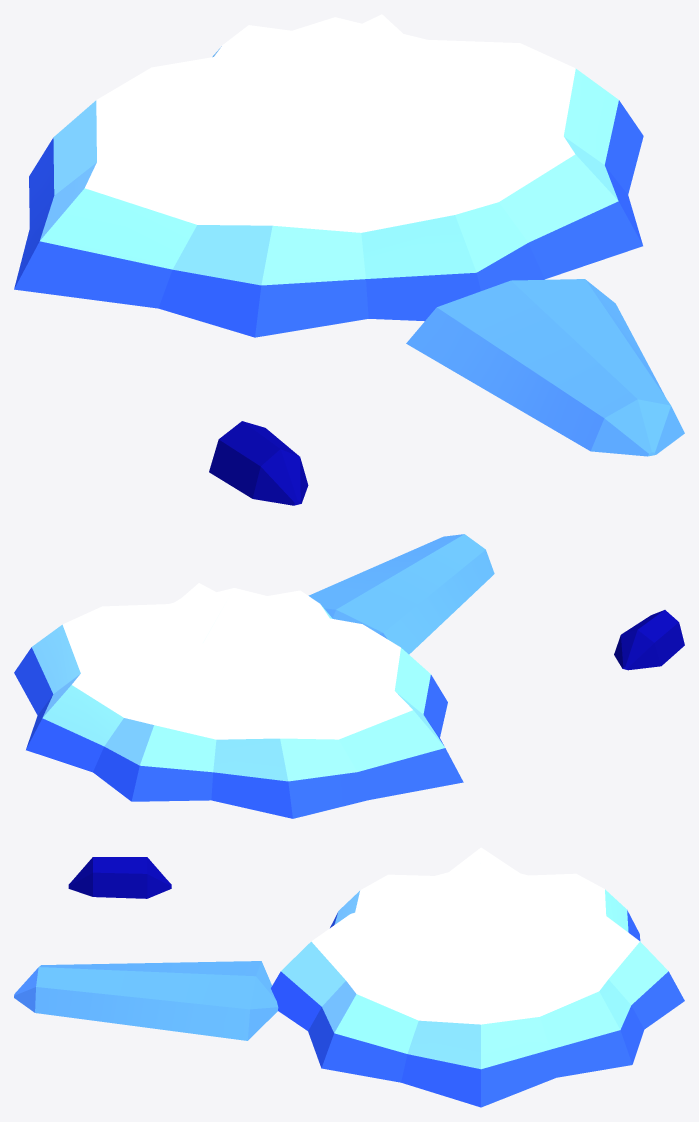
Rendered from shot_ice_139.glb.
The picture shows the model from 3 angles, top to bottom: view 1: azimuth 30°, elevation 25°; view 2: azimuth 150°, elevation 25°; view 3: azimuth 270°, elevation 25°; orthographic projection. The views are drawn at different scales.
Visible parts, largest first — view 1: shot_ice_139_cap, shot_ice_139_trail; view 2: shot_ice_139_cap, shot_ice_139_trail; view 3: shot_ice_139_cap, shot_ice_139_trail.
Part boxes in pixels (x1,y1,x2,y2): shot_ice_139_cap: (14, 14, 643, 337); shot_ice_139_trail: (209, 279, 684, 505); shot_ice_139_cap: (14, 583, 463, 818); shot_ice_139_trail: (308, 534, 684, 670); shot_ice_139_cap: (271, 847, 684, 1107); shot_ice_139_trail: (14, 857, 278, 1040).
Bounding box in the file's own units: 10.09 × 2.79 × 12.35.
